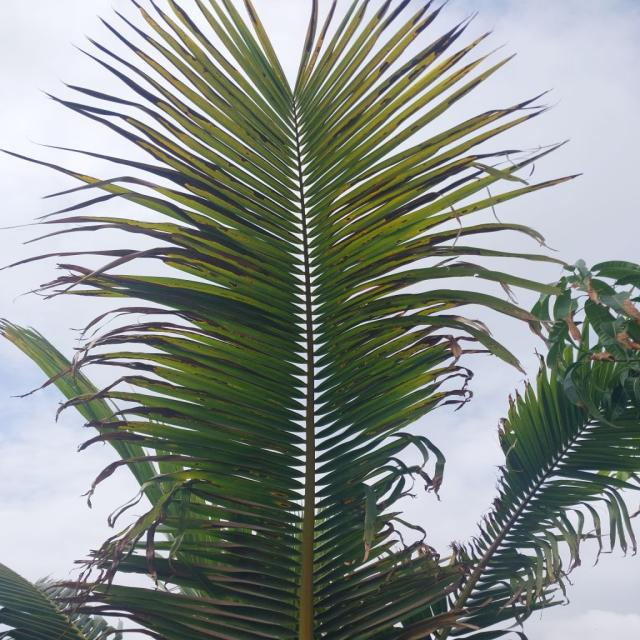leaf rot: (35, 0, 585, 577)
